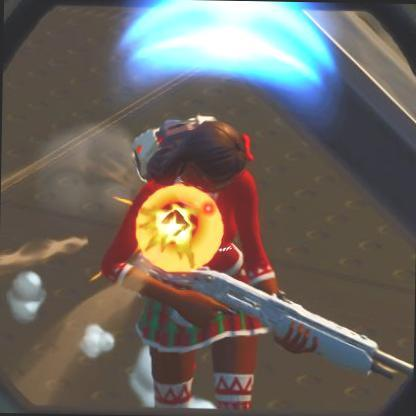person: (90, 108, 295, 415)
